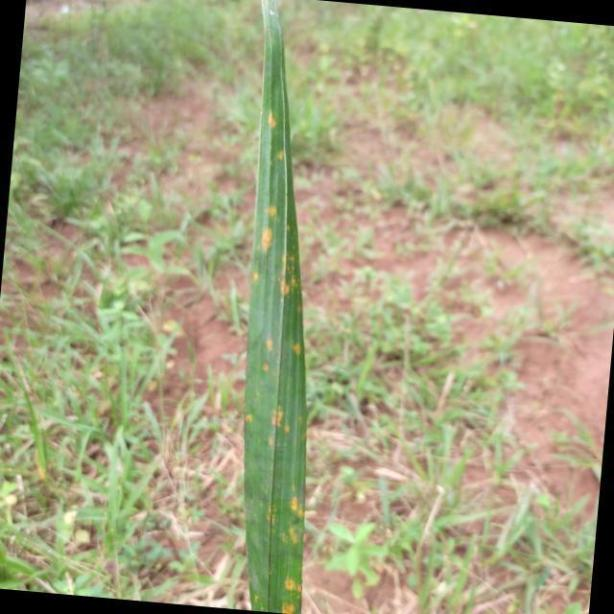Kalium: (245, 0, 307, 608)
